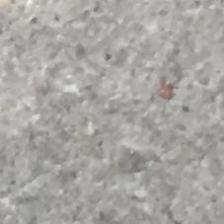Non_Crack: (4, 8, 224, 224)
